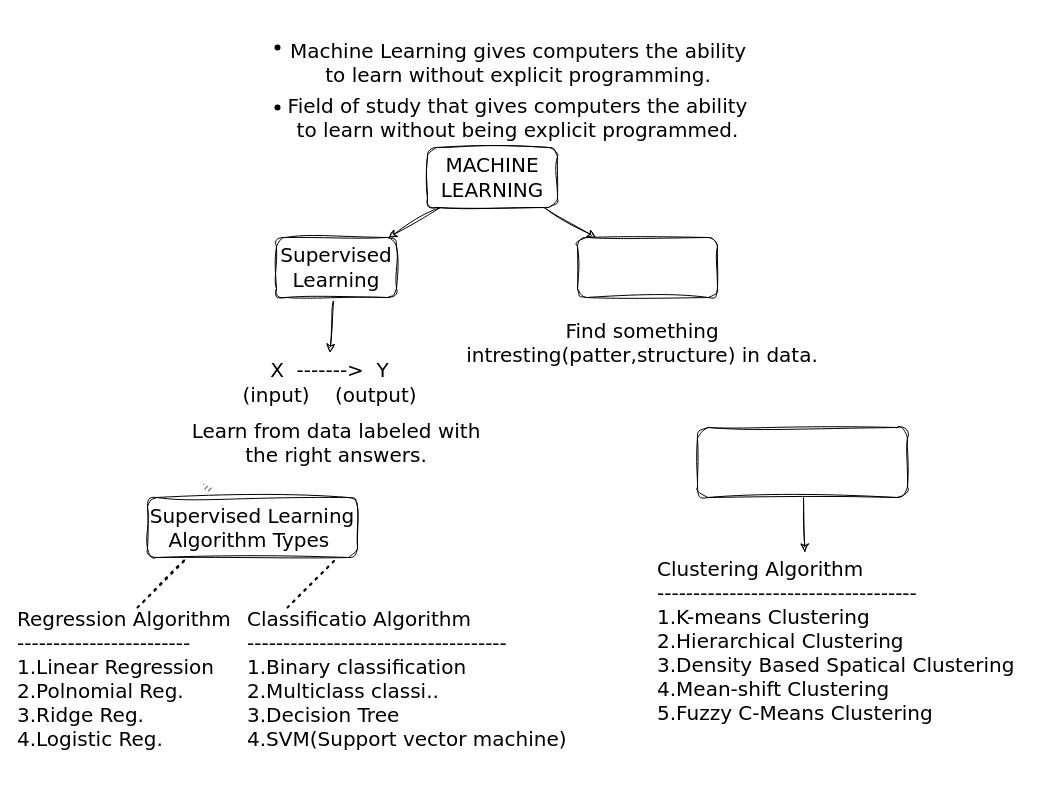
The diagram is 1064 pixels wide and 794 high, and some of its shapes have lost their labels. The shapes that lost their labels are listed below. From the top down, each one's centre as x and y in pixels, then its label:
[647,267]: Unsupervised Learning
[802,462]: Unsupervised Learning Algorith
